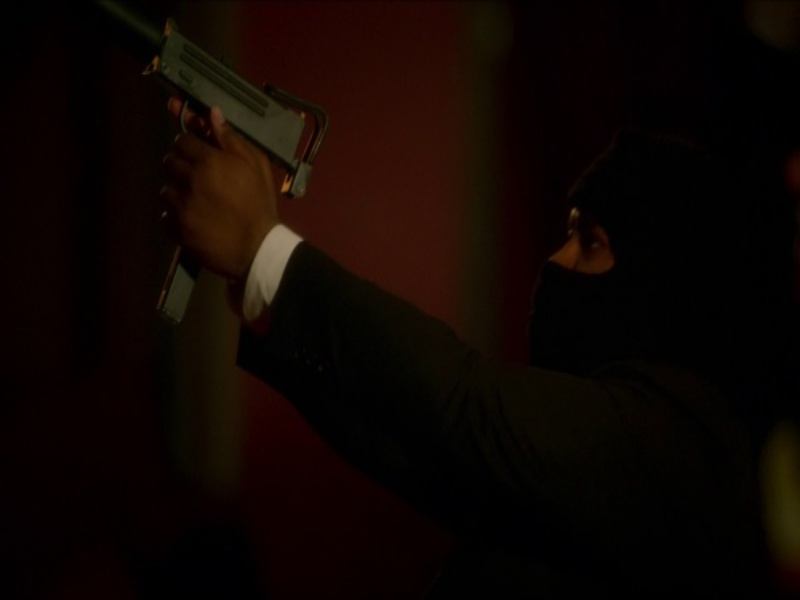person: (161, 62, 767, 592)
weapon: (68, 1, 328, 342)
